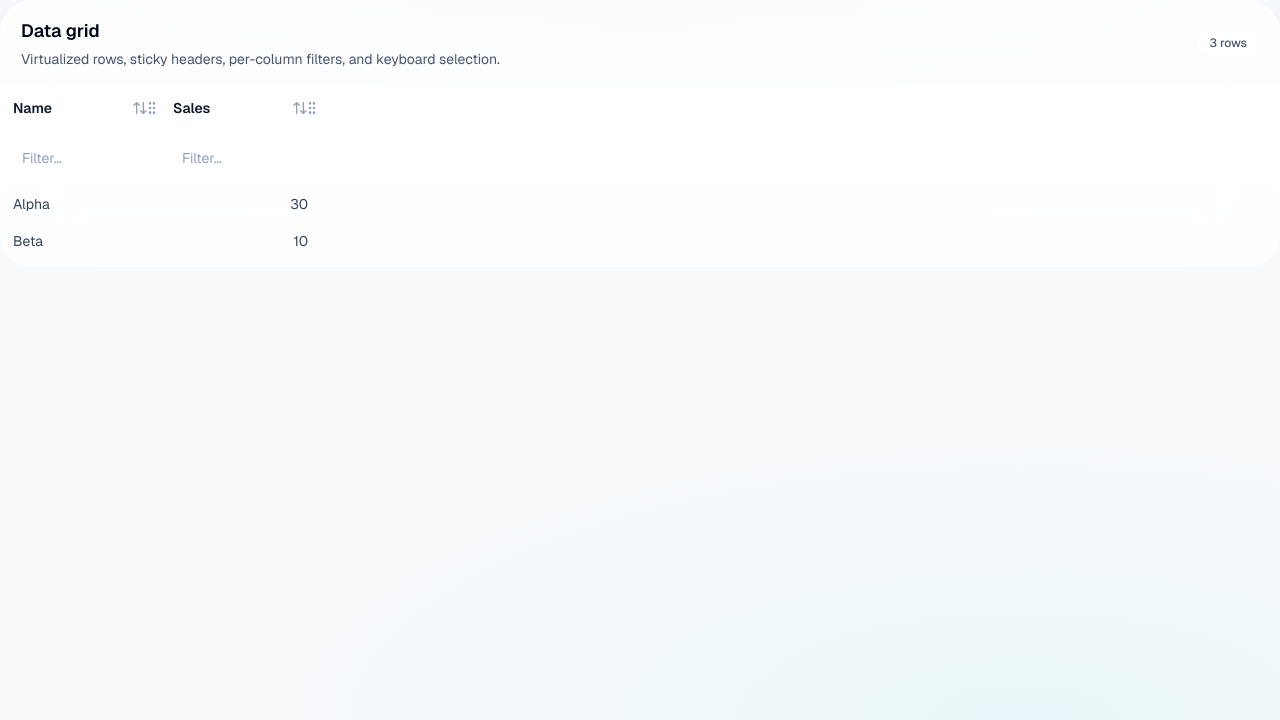
Test: DataGrid › filters visible rows from the filter row
This screenshot has width=1280, height=720.
In the field named "Filter Name": (80, 158) [9,139,152,177], type "Beta"
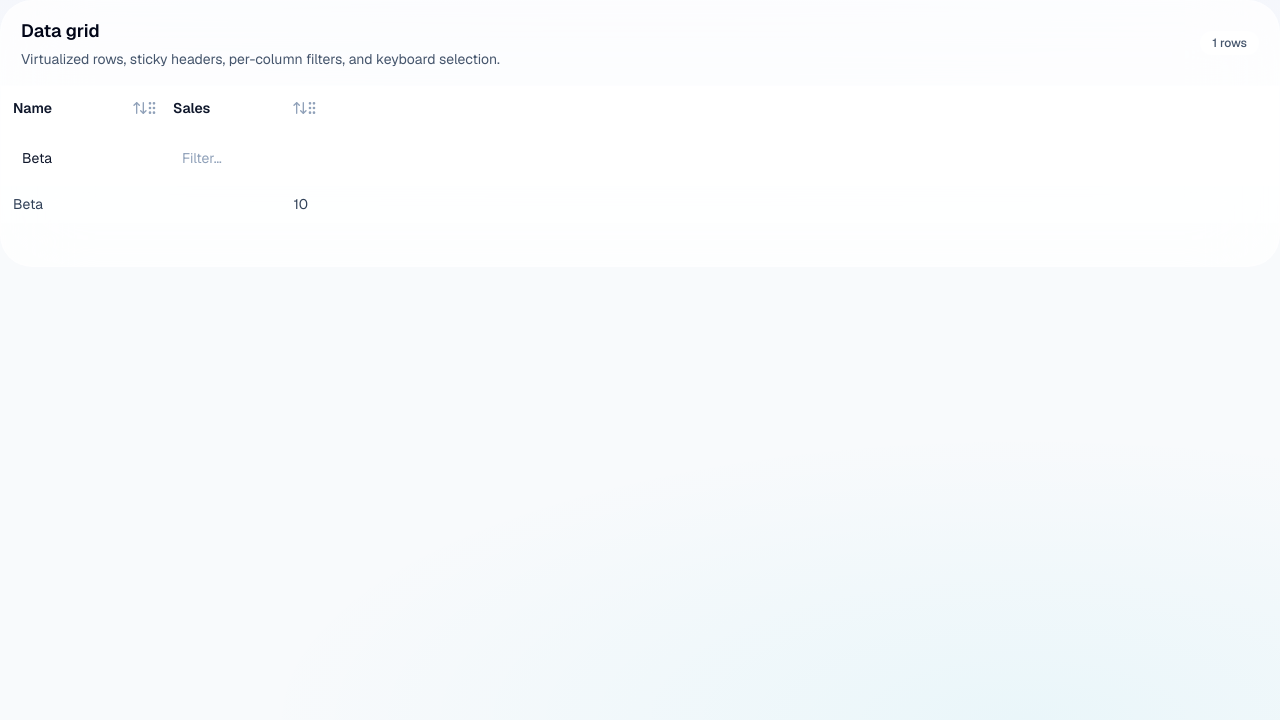
Check: the text "Beta" is shown, box [1,186,161,222]
Check: the text "Alpha" is gone
